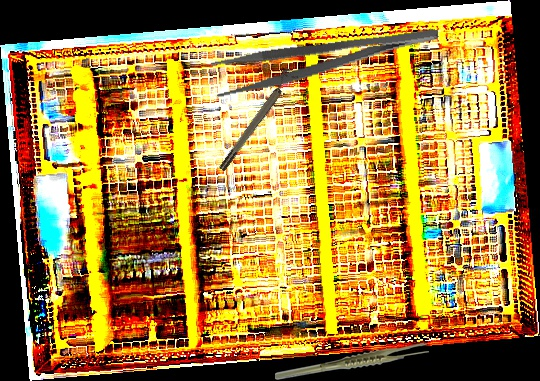Dressing Forceps: (210, 22, 443, 100)
Fixation Ring: (213, 66, 299, 173)
Tissue Forceps: (275, 342, 429, 381)
